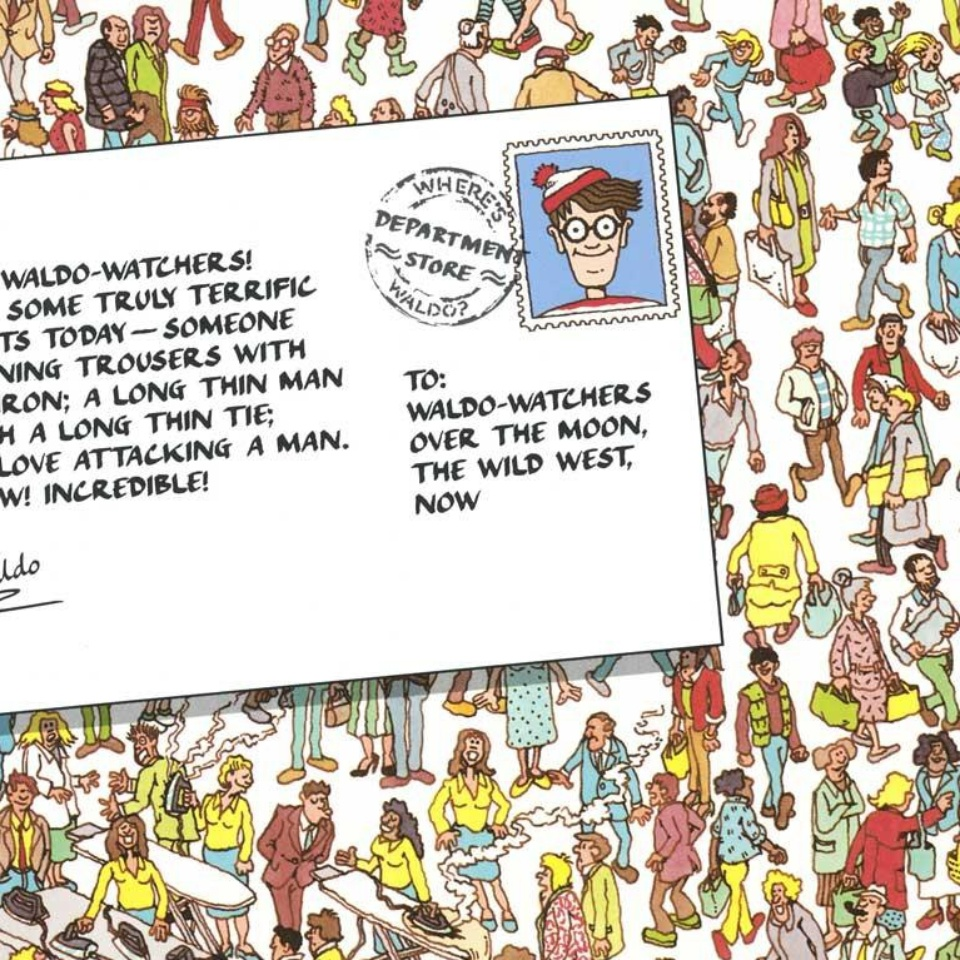waldo: (532, 162, 642, 302)
